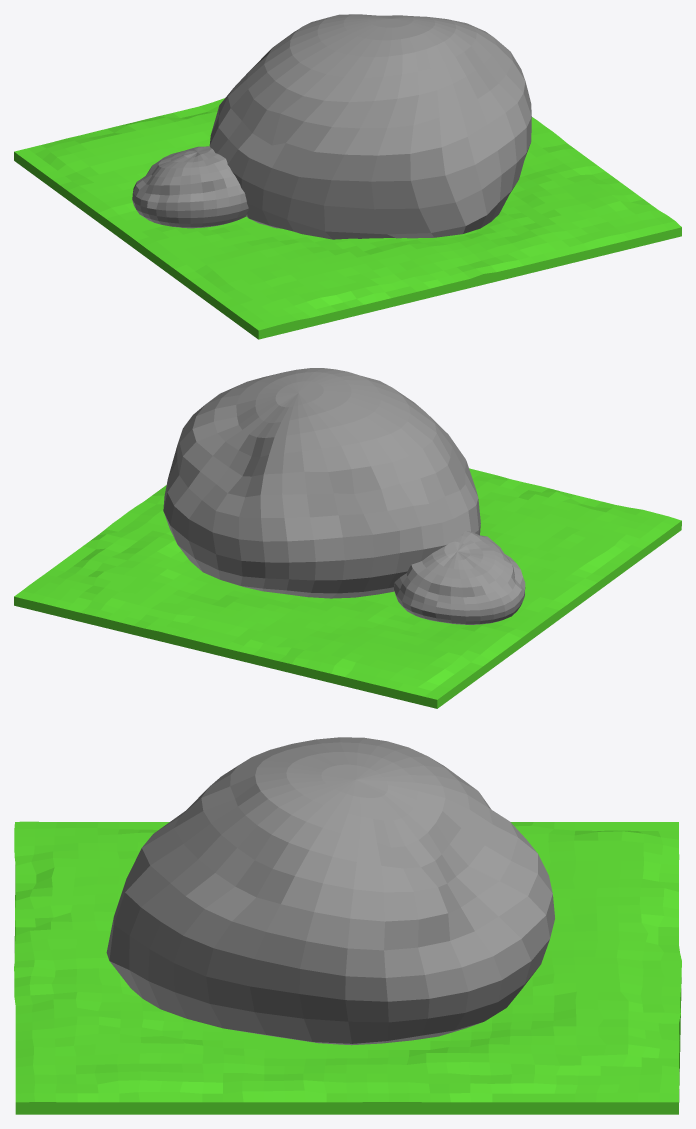
Rendered from rock_ground.glb.
The picture shows the model from 3 angles, top to bottom: view 1: azimuth 30°, elevation 25°; view 2: azimuth 150°, elevation 25°; view 3: azimuth 270°, elevation 25°; orthographic projection. The views are drawn at different scales.
Parts seen in each view (by area): view 1: big rock, ground, small rock; view 2: ground, big rock, small rock; view 3: ground, big rock.
Part boxes in pixels (box(x1,y1,x2,y2)): big rock: box(209, 14, 531, 239); ground: box(14, 98, 681, 339); small rock: box(132, 146, 248, 228); ground: box(14, 468, 681, 708); big rock: box(163, 368, 480, 598); small rock: box(393, 531, 525, 624); ground: box(14, 821, 681, 1114); big rock: box(106, 737, 554, 1045).
Size of the model in its own units: 3.8 by 1.47 by 3.82.
